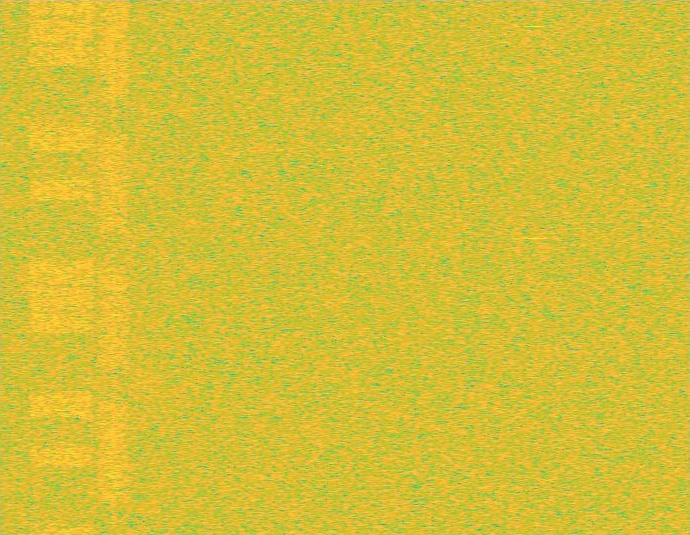5G: (96, 0, 131, 534)
DSSS: (111, 0, 116, 534)
LTE: (27, 0, 96, 534)
Radar: (529, 0, 543, 534)
